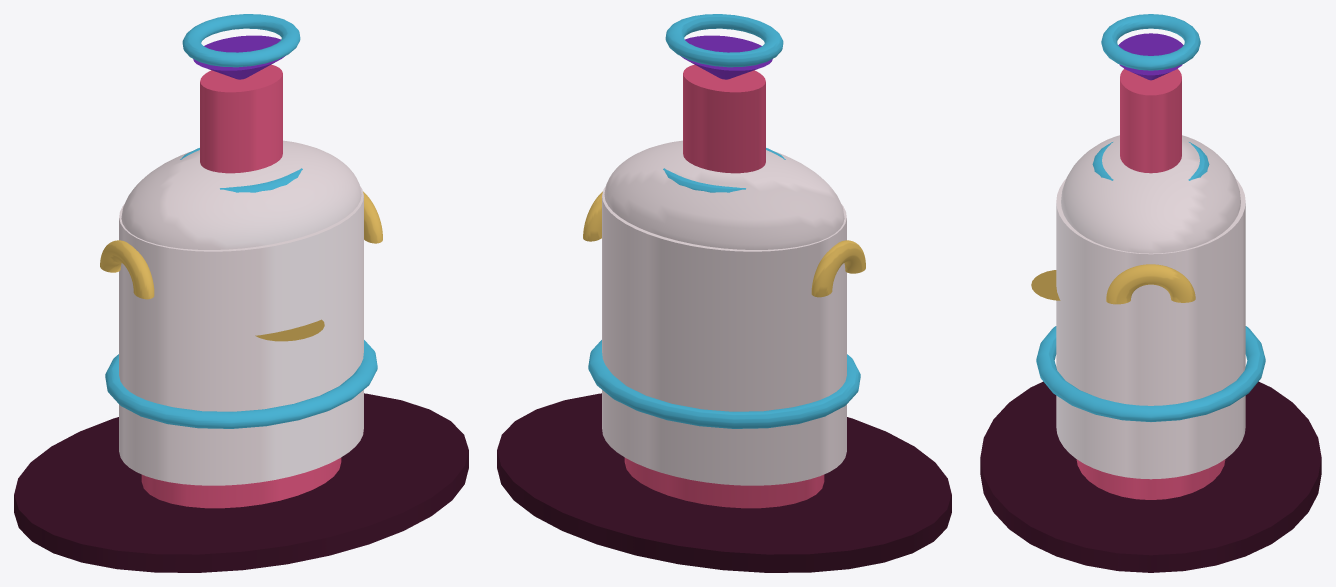
The model's file is 0270_世界古代文明图鉴_帕特农神庙.glb.
3 views of the same model, side by side, from view 1: azimuth 30°, elevation 25°; view 2: azimuth 150°, elevation 25°; view 3: azimuth 270°, elevation 25° (orthographic). The views are drawn at different scales.
Parts seen in each view (by area): view 1: card_0270; view 2: card_0270; view 3: card_0270.
Boxes of the visible parts, left/top/right/bottom form: card_0270: left=14, top=14, right=468, bottom=572; card_0270: left=497, top=14, right=951, bottom=572; card_0270: left=980, top=14, right=1321, bottom=572.
Size of the model in its own units: 0.9602 by 1 by 0.7048.
